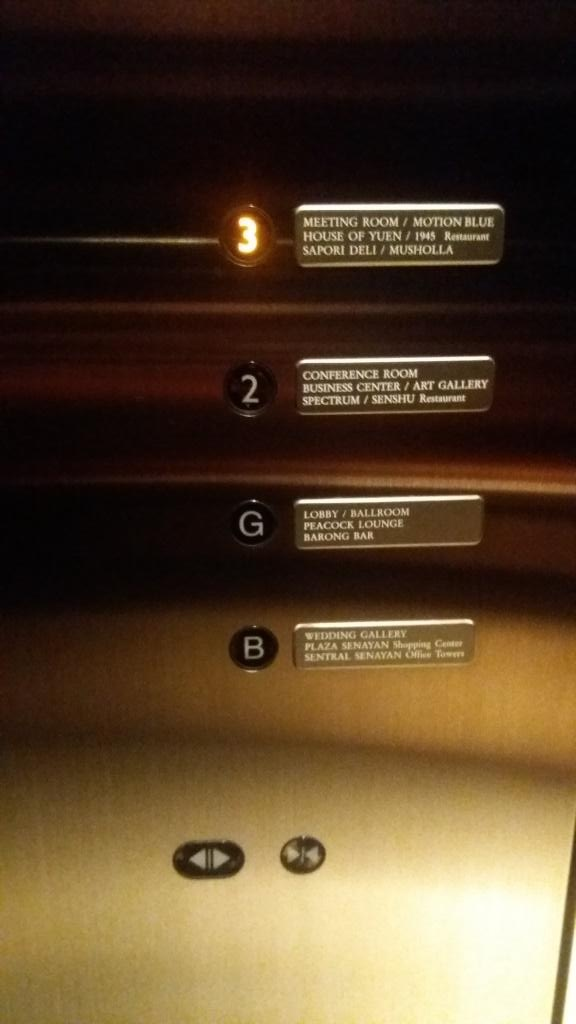2: (215, 353, 281, 426)
3: (215, 196, 280, 275)
B: (223, 620, 282, 678)
G: (221, 491, 284, 555)
close: (276, 831, 328, 879)
open: (169, 835, 249, 883)
